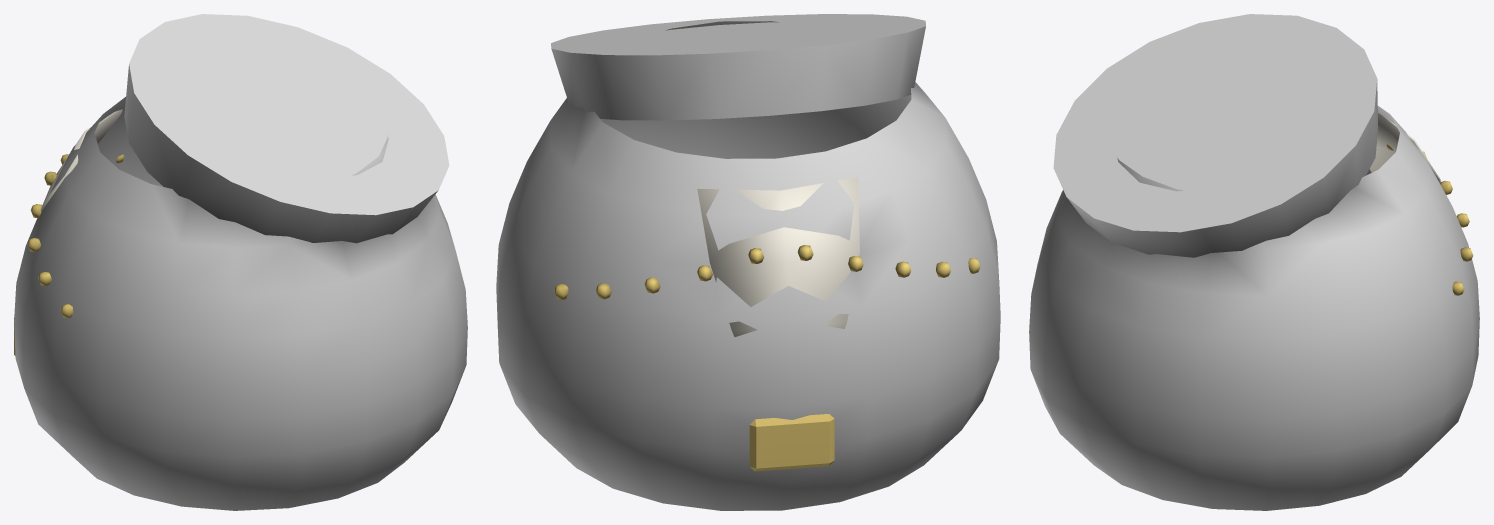
The model's file is elvis_chest.fbx.
3 views of the same model, side by side, from view 1: azimuth 30°, elevation 25°; view 2: azimuth 150°, elevation 25°; view 3: azimuth 270°, elevation 25° (orthographic). The views are drawn at different scales.
Parts seen in each view (by area): view 1: elvis_chest; view 2: elvis_chest; view 3: elvis_chest.
Part boxes in pixels (x1,y1,x2,y2): elvis_chest: (14,14,467,510); elvis_chest: (496,14,1000,510); elvis_chest: (1029,14,1479,510).
Bounding box in the file's own units: 1.76 × 1.65 × 1.76.
